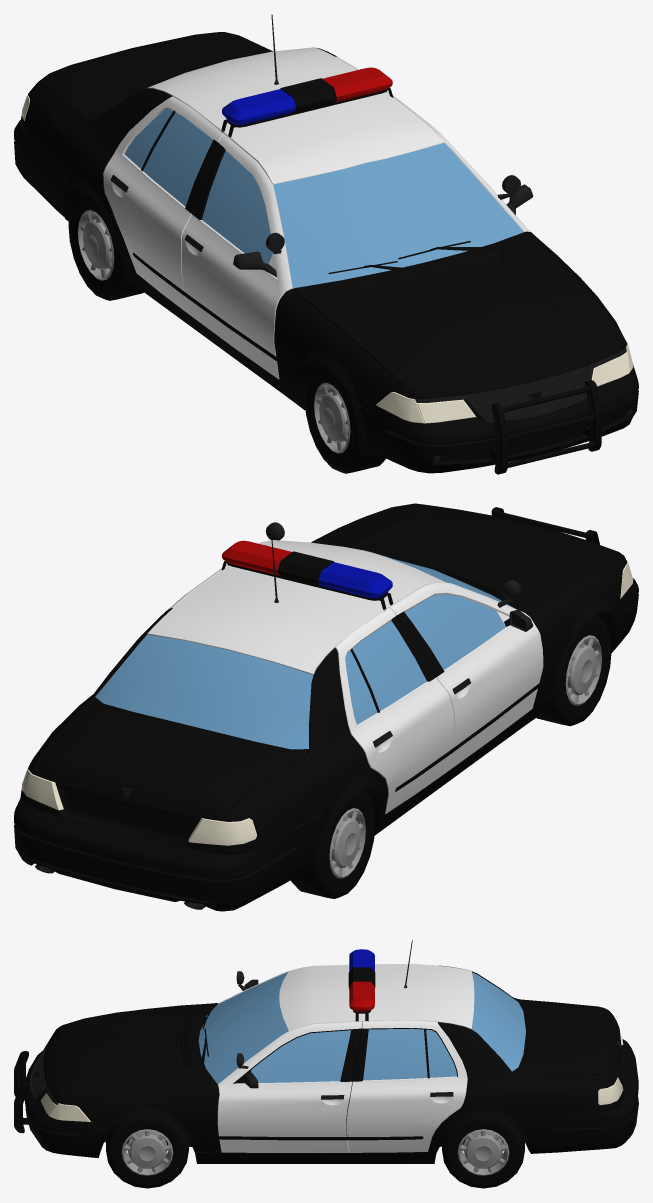
The model's file is CAR_Police.fbx.
The picture shows the model from 3 angles, top to bottom: view 1: azimuth 30°, elevation 25°; view 2: azimuth 150°, elevation 25°; view 3: azimuth 270°, elevation 25°; orthographic projection. The views are drawn at different scales.
Visible parts, largest first — view 1: CAR_Police, Car_Policei_Wheel_F_R, Car_Police_Wheel_R_R; view 2: CAR_Police, Car_Police_Wheel_R_R, Car_Policei_Wheel_F_R; view 3: CAR_Police, Car_Police_Wheel_F_L, Car_Police_Wheel_R_L.
Boxes of the visible parts, left/top/right/bottom form: CAR_Police: left=14, top=14, right=638, bottom=474; Car_Policei_Wheel_F_R: left=304, top=361, right=386, bottom=473; Car_Police_Wheel_R_R: left=68, top=190, right=143, bottom=300; CAR_Police: left=14, top=503, right=638, bottom=911; Car_Police_Wheel_R_R: left=290, top=789, right=375, bottom=898; Car_Policei_Wheel_F_R: left=536, top=614, right=611, bottom=726; CAR_Police: left=14, top=940, right=638, bottom=1163; Car_Police_Wheel_F_L: left=106, top=1115, right=188, bottom=1188; Car_Police_Wheel_R_L: left=442, top=1116, right=524, bottom=1188.
Bounding box in the file's own units: 47.91 × 45.02 × 124.
